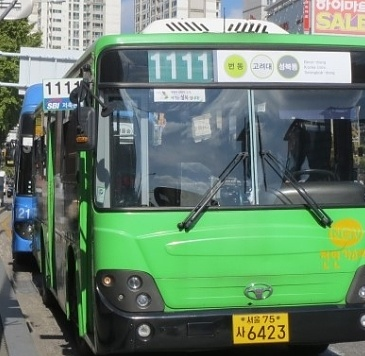bnum: (148, 49, 212, 82)
